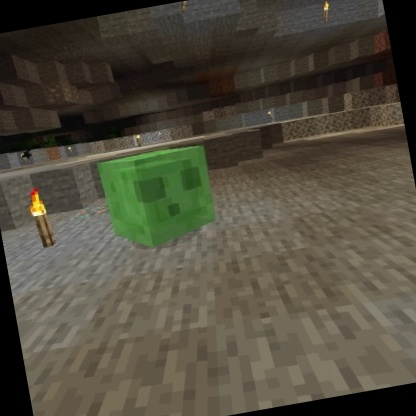slime: (92, 138, 227, 259)
